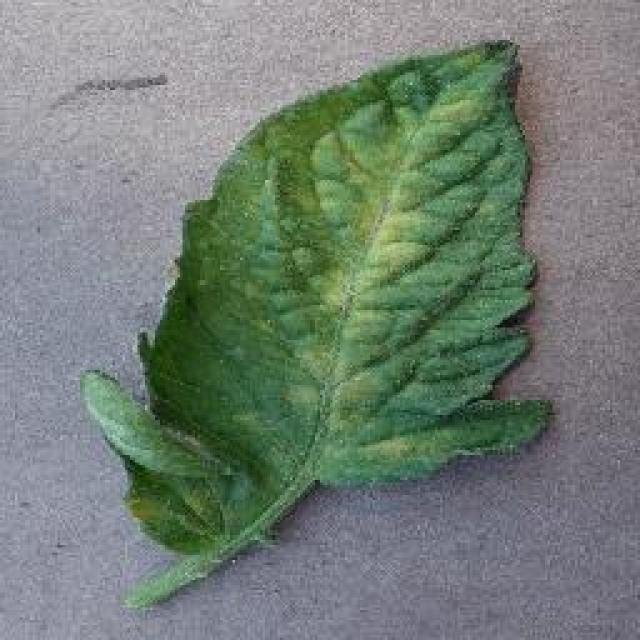Tomato___Leaf_Mold: (82, 40, 550, 602)
